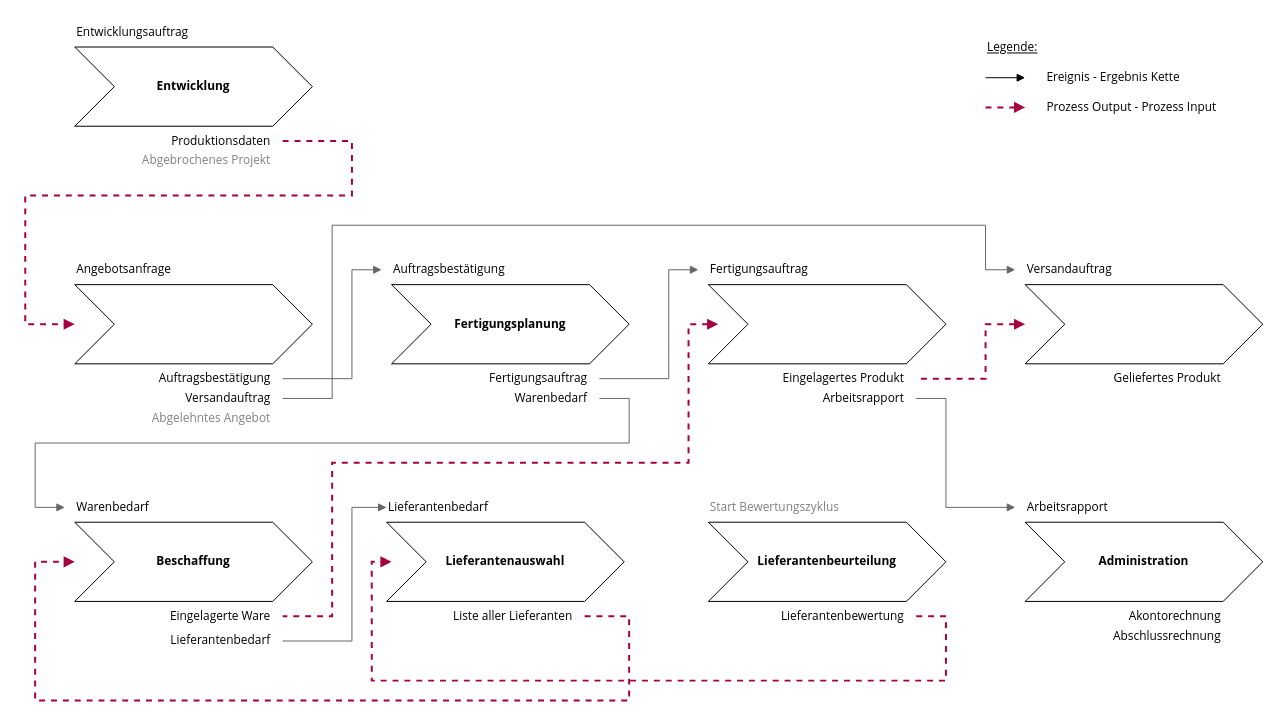
Some shapes in this 1280 by 726 pixel diagram are drawn without their labels. The centre of each missing label's shape, as x and y in pixels:
Fertigung: [826,324]
Kundenanfrage: [193,324]
Versand: [1143,324]
